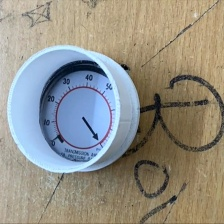gauge: (41, 68, 117, 161)
